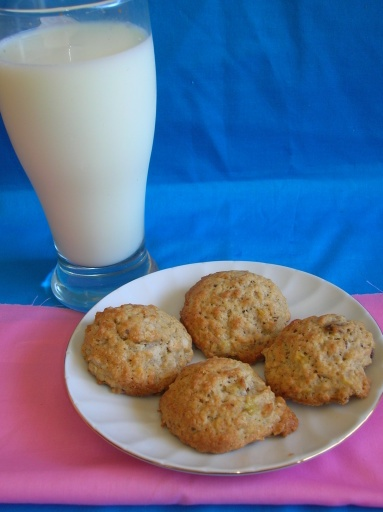background: (48, 148, 224, 365), (0, 18, 95, 215)
